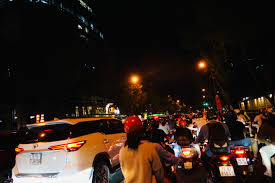Bien-so: (220, 165, 236, 177), (29, 153, 41, 166), (236, 158, 249, 166), (185, 161, 192, 169)
